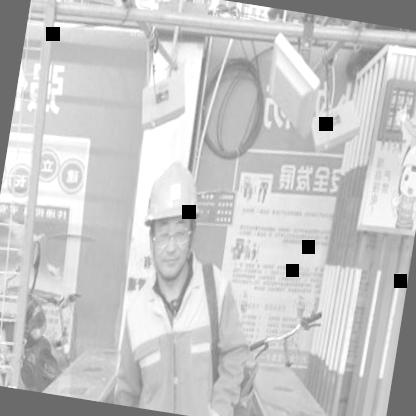helmet: (127, 141, 212, 292)
